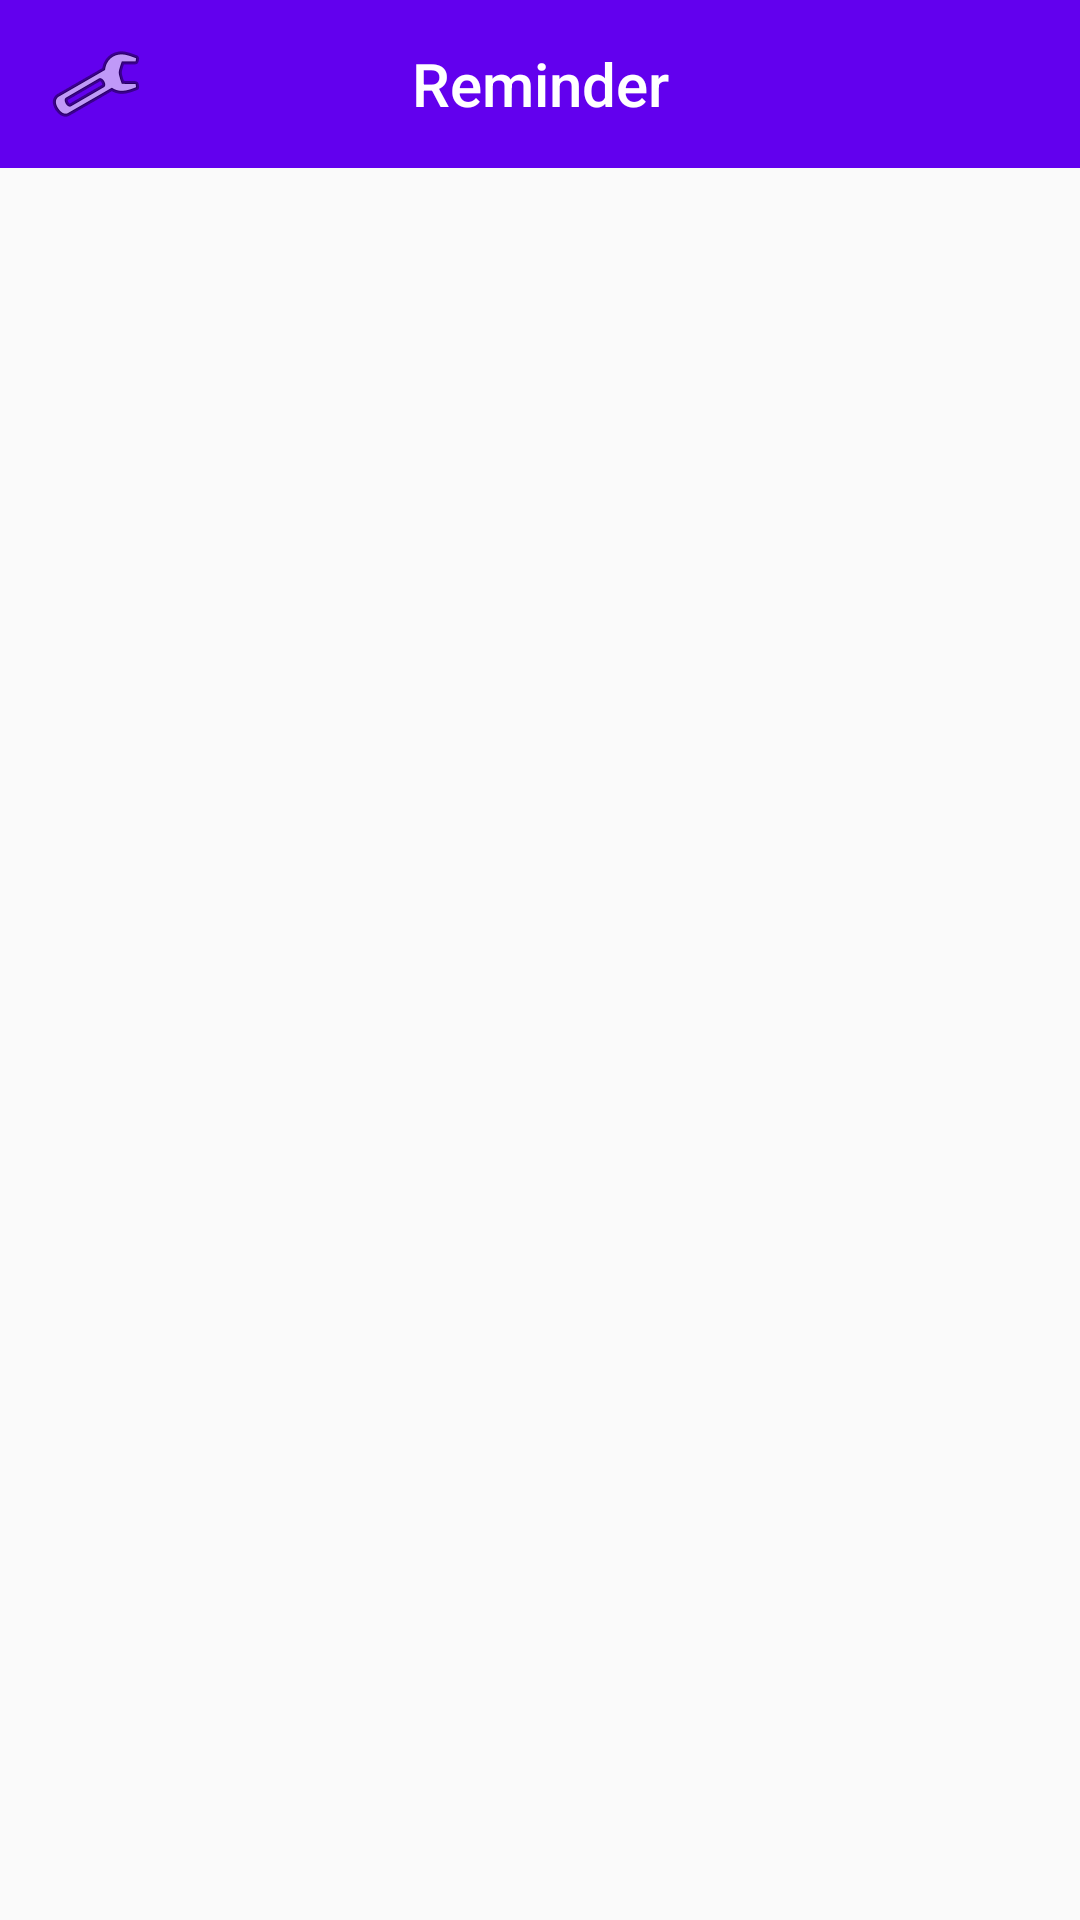

Screen size 1080 × 1920. Icon name, then its center in pixels as (x=x, y=y):
manage: (x=96, y=84)
